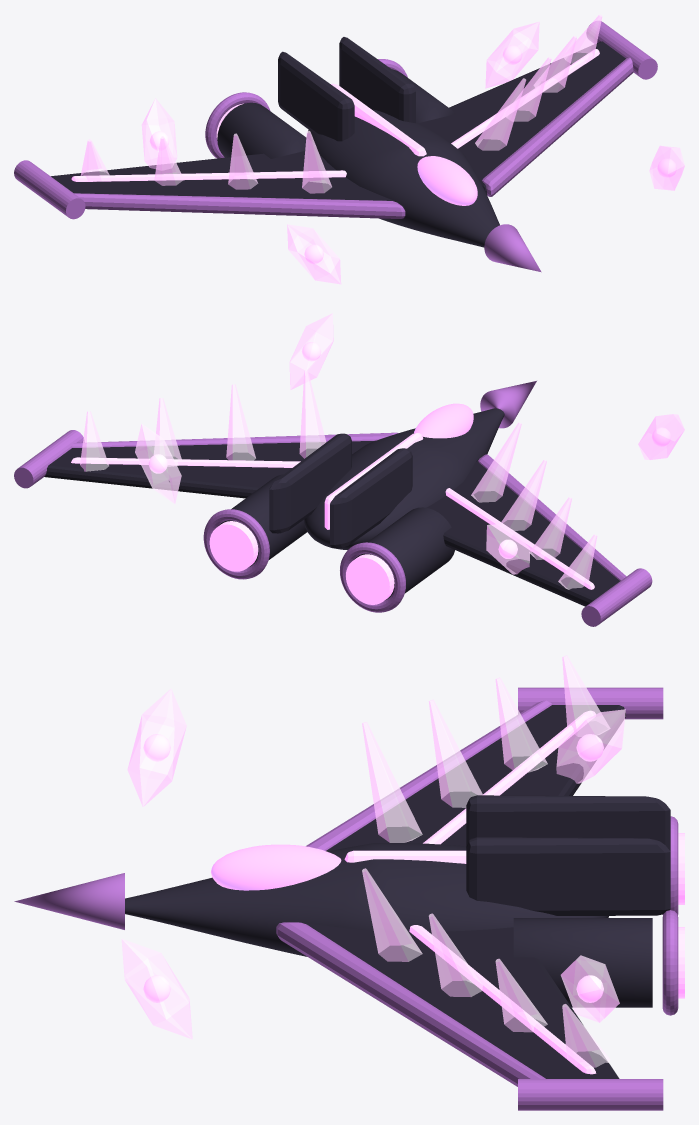
File: keeper_umbra.glb
3 views of the same model, one above another, from view 1: azimuth 30°, elevation 25°; view 2: azimuth 150°, elevation 25°; view 3: azimuth 270°, elevation 25° (orthographic). The views are drawn at different scales.
Parts seen in each view (by area): view 1: Sphere; view 2: Sphere; view 3: Sphere.
Part boxes in pixels (x1,y1,x2,y2): Sphere: [14, 14, 684, 284]; Sphere: [14, 313, 684, 626]; Sphere: [14, 655, 684, 1110].
Size of the model in its own units: 6.88 by 1.34 by 4.82.
